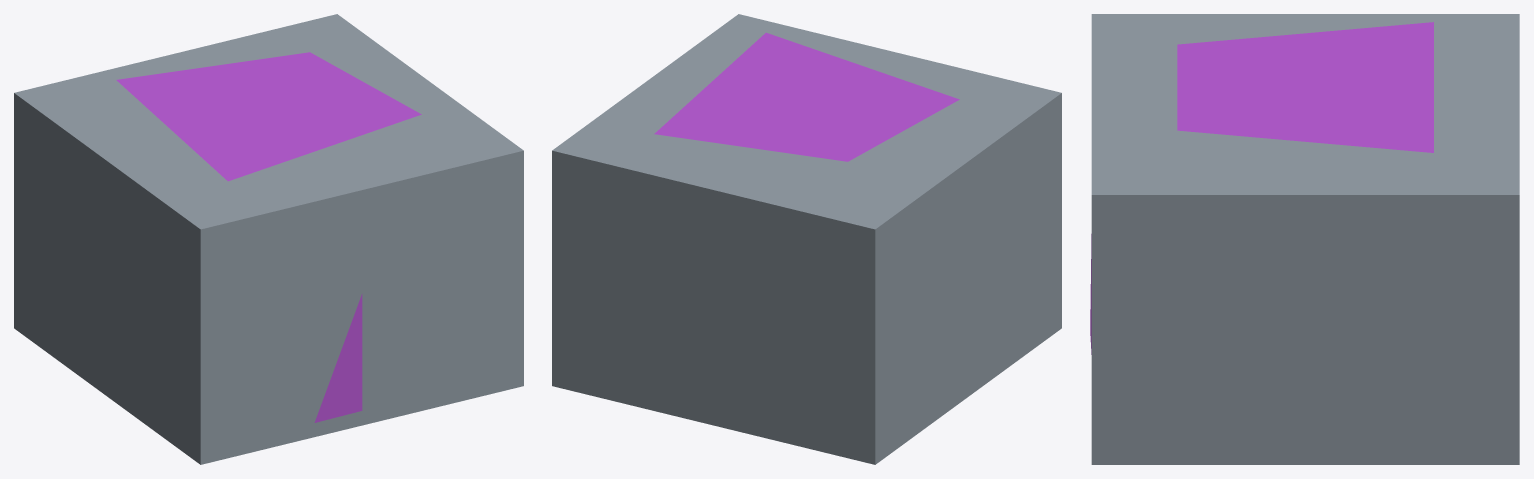
Rendered from CH_SuperweaponRewind_LOD1.glb.
The picture shows the model from 3 angles, left to right: view 1: azimuth 30°, elevation 25°; view 2: azimuth 150°, elevation 25°; view 3: azimuth 270°, elevation 25°; orthographic projection. The views are drawn at different scales.
Visible parts, largest first — view 1: EntranceGate; view 2: EntranceGate; view 3: EntranceGate.
Boxes of the visible parts, x1,y1,x2,y2 form: EntranceGate: (14, 14, 523, 464); EntranceGate: (552, 14, 1061, 464); EntranceGate: (1090, 14, 1519, 464).
Bounding box in the file's own units: 1000 × 769 × 1003.
